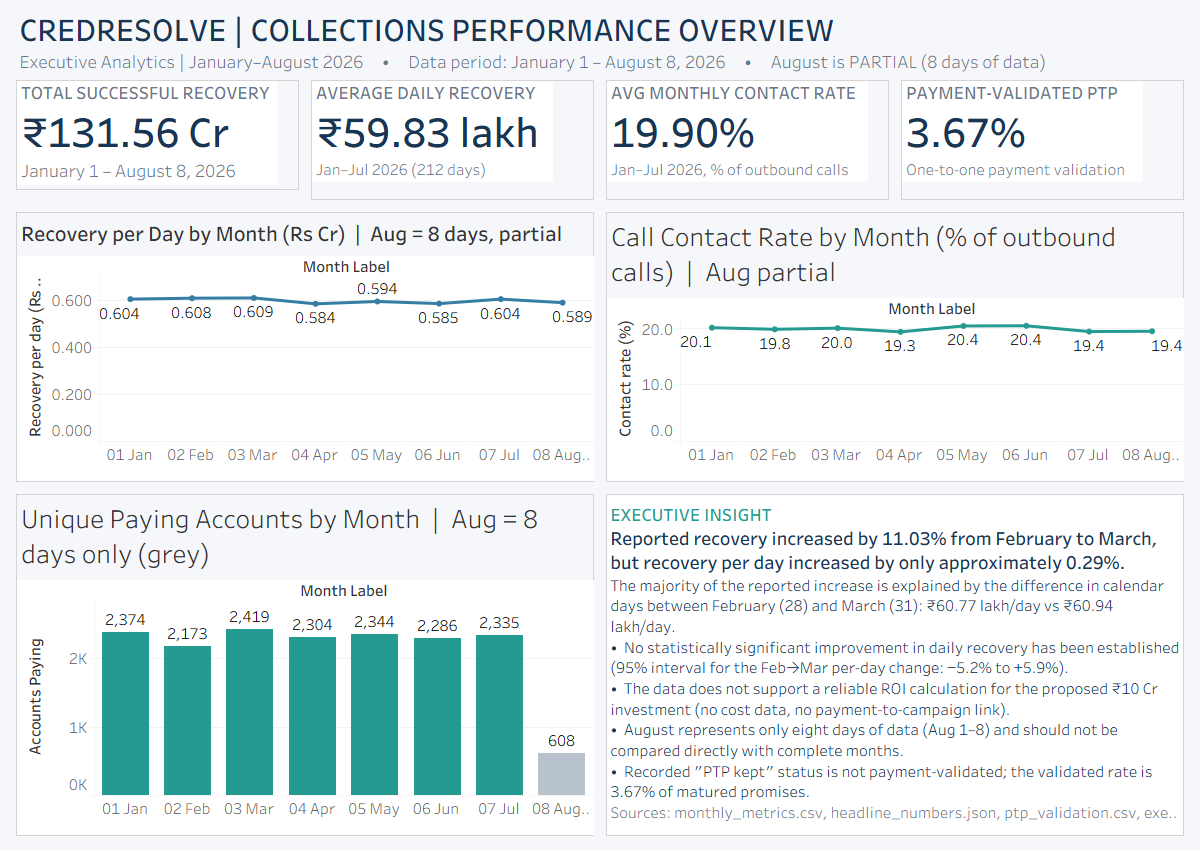

The page's visual inventory and layout, read from the dashboard file:
{"tool":"tableau","page":{"name":"CredResolve Executive Dashboard","canvas":[1200,850],"ordinal":0},"visuals":[{"type":"text","box":[16,8,1168,66]},{"type":"worksheet","title":"KPI - Recovery","mark":"Automatic","box":[16,80,283,110]},{"type":"worksheet","title":"KPI - Daily Recovery","mark":"Automatic","box":[311,80,283,120]},{"type":"worksheet","title":"KPI - Contact Rate","mark":"Automatic","box":[606,80,283,120]},{"type":"worksheet","title":"KPI - Validated PTP","mark":"Automatic","box":[901,80,283,120]},{"type":"worksheet","title":"Monthly Recovery Trend","mark":"Line","rows":["recovery_cr_per_day"],"cols":["Calculation_1446199646371840"],"box":[16,212,578,270]},{"type":"worksheet","title":"Contact Rate Trend","mark":"Line","rows":["contact_rate_call_pct"],"cols":["Calculation_1446199646371840"],"box":[606,212,578,270]},{"type":"worksheet","title":"Paying Accounts Trend","mark":"Automatic","rows":["accounts_paying"],"cols":["Calculation_1446199646371840"],"box":[16,494,578,342]},{"type":"text","box":[606,494,578,342]}]}

Visuals, with their boxes in screenshot pixels (x1, y1, x2, y2), scaled from the page's 1200x850 canvas onto the 1200x850 screenshot:
text: x1=16 y1=8 x2=1184 y2=74
"KPI - Recovery" worksheet: x1=16 y1=80 x2=299 y2=190
"KPI - Daily Recovery" worksheet: x1=311 y1=80 x2=594 y2=200
"KPI - Contact Rate" worksheet: x1=606 y1=80 x2=889 y2=200
"KPI - Validated PTP" worksheet: x1=901 y1=80 x2=1184 y2=200
"Monthly Recovery Trend" worksheet (Line marks): x1=16 y1=212 x2=594 y2=482
"Contact Rate Trend" worksheet (Line marks): x1=606 y1=212 x2=1184 y2=482
"Paying Accounts Trend" worksheet: x1=16 y1=494 x2=594 y2=836
text: x1=606 y1=494 x2=1184 y2=836
